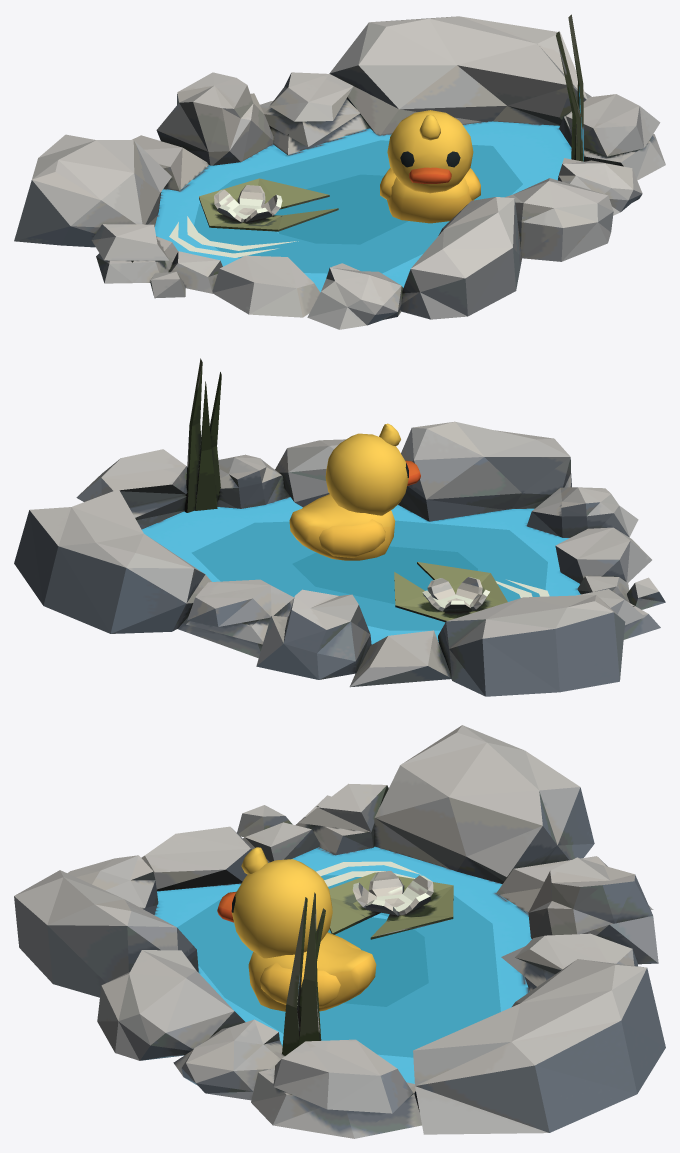
File: pond.glb
3 views of the same model, one above another, from view 1: azimuth 30°, elevation 25°; view 2: azimuth 150°, elevation 25°; view 3: azimuth 270°, elevation 25° (orthographic). The views are drawn at different scales.
Visible parts, largest first — view 1: pond, ducky; view 2: pond, ducky; view 3: pond, ducky.
Part boxes in pixels (<box>): pond: <box>14,14,665,329</box>; ducky: <box>380,110,480,223</box>; pond: <box>14,358,665,696</box>; ducky: <box>289,423,420,560</box>; pond: <box>14,725,665,1138</box>; ducky: <box>217,847,376,1011</box>.
Size of the model in its own units: 1.9 by 0.5132 by 1.52.
2 materials, 2 textured.
